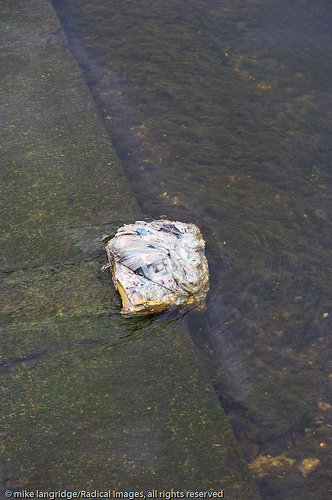litter: (106, 219, 206, 315)
